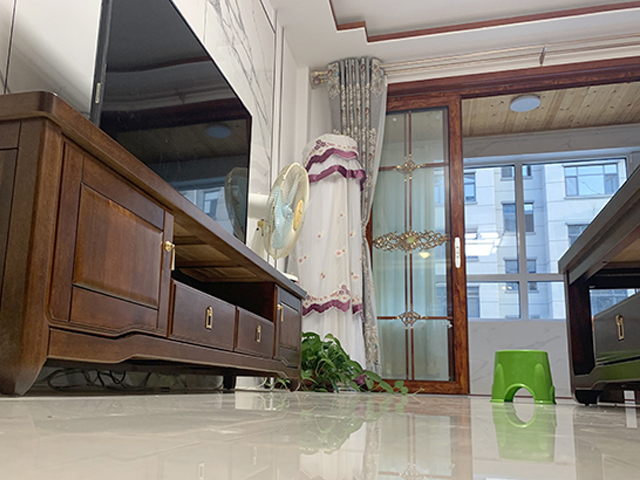cabinet: (1, 89, 309, 398)
curtain: (327, 56, 388, 376)
stool: (490, 349, 557, 406)
table: (556, 163, 640, 410)
